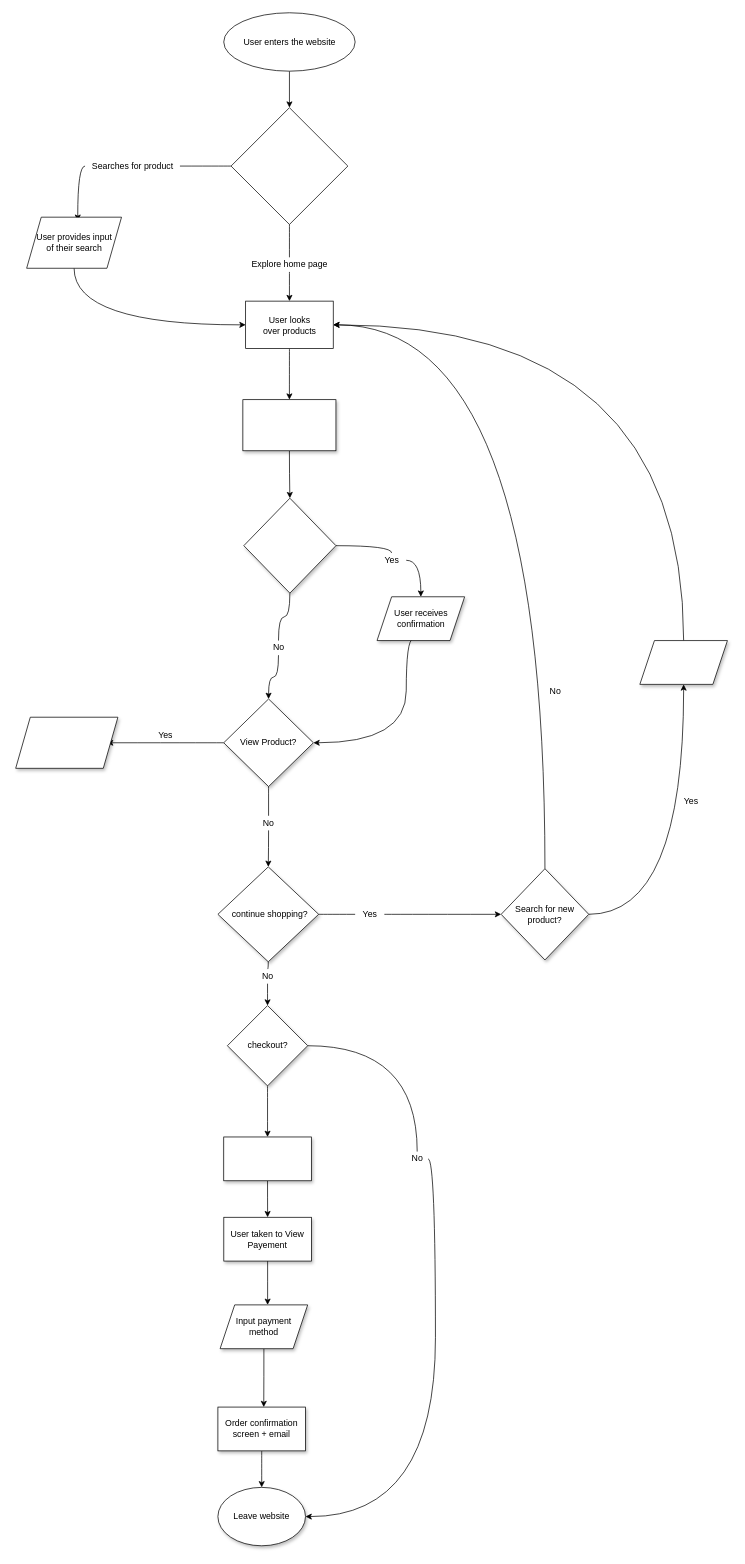
This 745x1564 diagram has some shape labels left out. Here are the shapes that lost their labels. From the top down, the centre of each, then its label:
the point at 289,165: Searches for product or explore home page
the point at 289,426: User finds a product
the point at 290,546: Add to cart?
the point at 684,663: User inputs search
the point at 67,743: Product webpage opens
the point at 268,1159: User taken to View Cart
